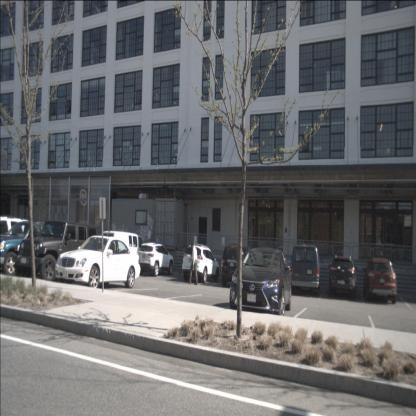human-pedestrian-adult: (188, 242, 199, 286)
vehicle-car: (55, 235, 141, 289), (229, 247, 292, 316), (0, 220, 65, 276), (102, 231, 149, 272), (0, 216, 35, 268), (290, 244, 320, 296), (364, 258, 396, 304), (182, 245, 219, 283), (221, 244, 251, 287), (137, 243, 174, 277), (329, 256, 357, 298)
vehicle-truck: (19, 221, 99, 281)
